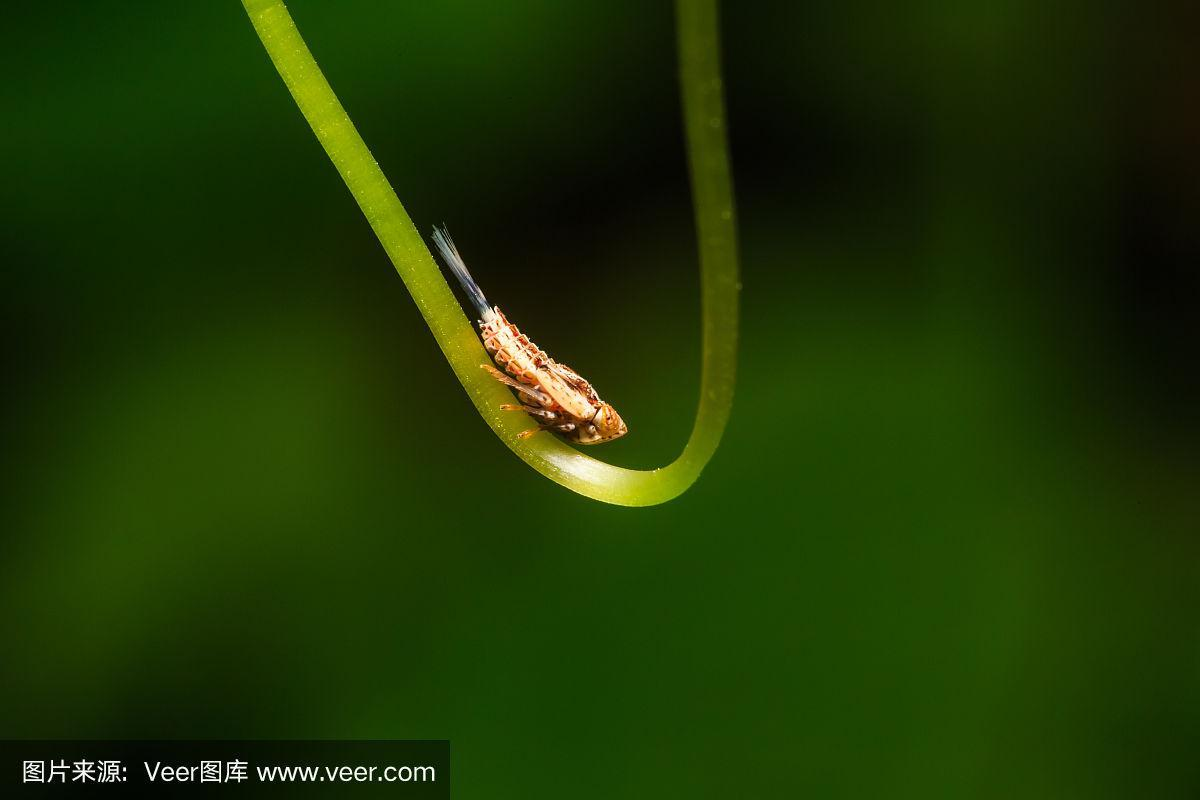Delphacidae: (429, 223, 629, 444)
